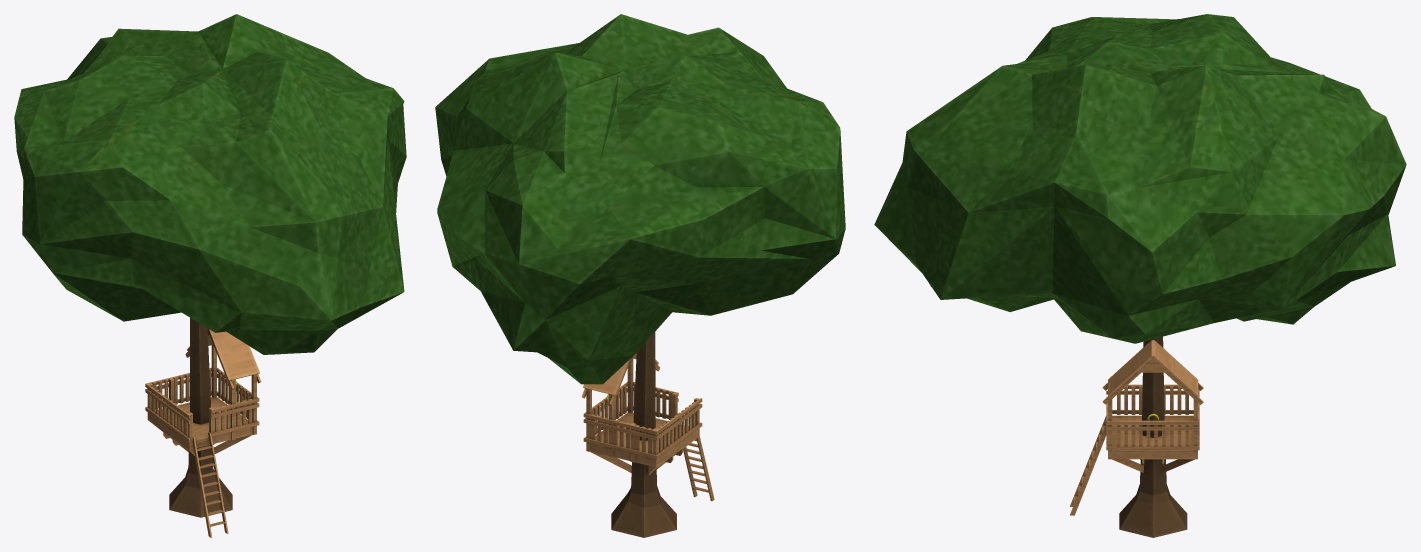
The model's file is 5jnXittYHwG.glb.
The picture shows the model from 3 angles, left to right: view 1: azimuth 30°, elevation 25°; view 2: azimuth 150°, elevation 25°; view 3: azimuth 270°, elevation 25°; orthographic projection. The views are drawn at different scales.
Parts seen in each view (by area): view 1: Treehouse_mesh; view 2: Treehouse_mesh; view 3: Treehouse_mesh.
Part boxes in pixels (box(x1,y1,x2,y2)): Treehouse_mesh: box(14, 14, 406, 537); Treehouse_mesh: box(435, 14, 845, 537); Treehouse_mesh: box(874, 14, 1406, 537).
Size of the model in its own units: 0.8812 by 1 by 0.9894.
Materials: 1 (1 with a texture image).
